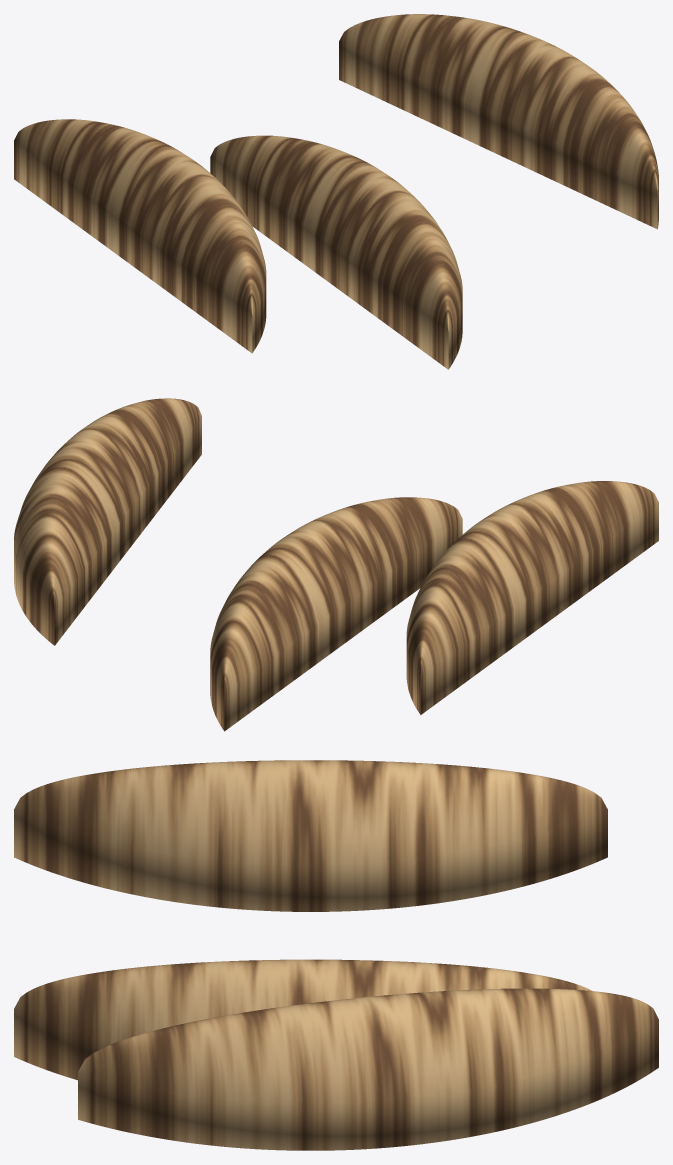
Rendered from jiaobei.gltf.
3 renders of one model, top to bottom at view 1: azimuth 30°, elevation 25°; view 2: azimuth 150°, elevation 25°; view 3: azimuth 270°, elevation 25°, orthographic. The views are drawn at different scales.
Parts seen in each view (by area): view 1: CupB, CupA, JiaobeiCup; view 2: CupA, JiaobeiCup, CupB; view 3: CupA, CupB, JiaobeiCup.
Boxes of the visible parts, x1,y1,x2,y2 form: CupB: (339,14,658,229); CupA: (14,119,266,353); JiaobeiCup: (210,135,462,369); CupA: (406,481,658,714); JiaobeiCup: (210,497,462,731); CupB: (14,398,201,645); CupA: (14,760,607,911); CupB: (78,988,658,1150); JiaobeiCup: (14,959,591,1080).
Bounding box in the file's own units: 1.97 × 0.63 × 1.83.
1 material, 1 textured.
